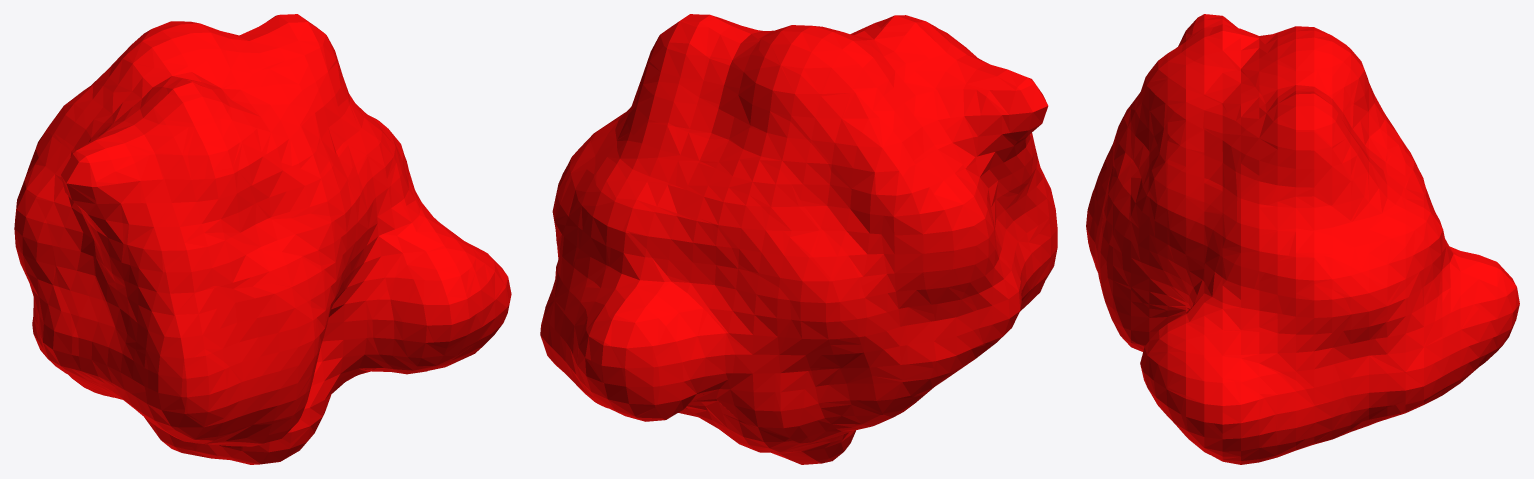
File: mtfA_coarse.dae
3 renders of one model, left to right at view 1: azimuth 30°, elevation 25°; view 2: azimuth 150°, elevation 25°; view 3: azimuth 270°, elevation 25°, orthographic. The views are drawn at different scales.
Parts seen in each view (by area): view 1: mtfA; view 2: mtfA; view 3: mtfA.
Boxes of the visible parts, box(x1,y1,x2,y2) form: mtfA: box(14, 14, 511, 464); mtfA: box(540, 14, 1057, 464); mtfA: box(1086, 14, 1519, 464).
Size of the model in its own units: 53.22 by 47.21 by 48.86.
